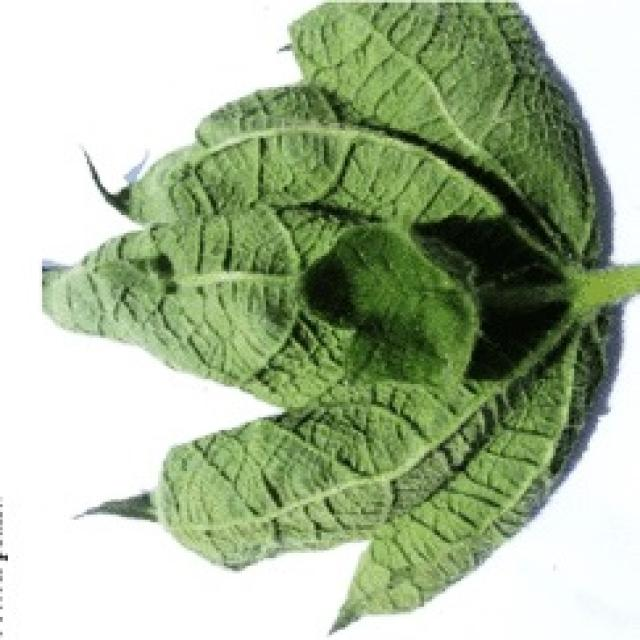Leaf Curl Virus: (199, 98, 595, 491)
